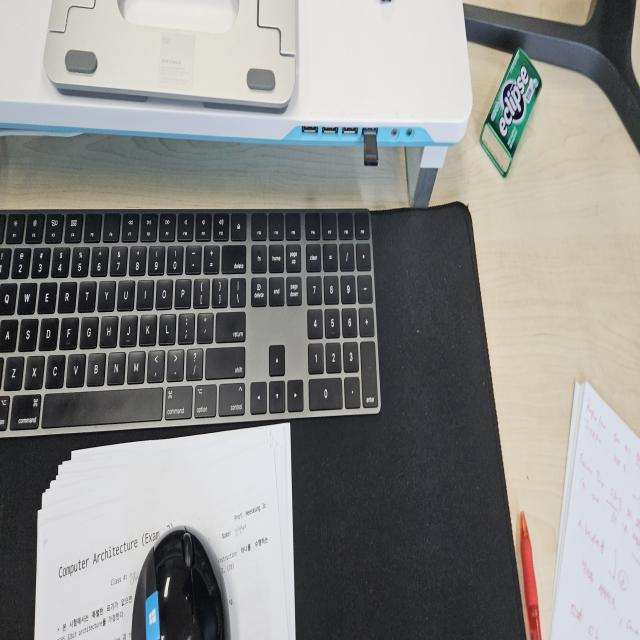Keyboard: (1, 205, 382, 438)
Mouse: (129, 523, 231, 637)
